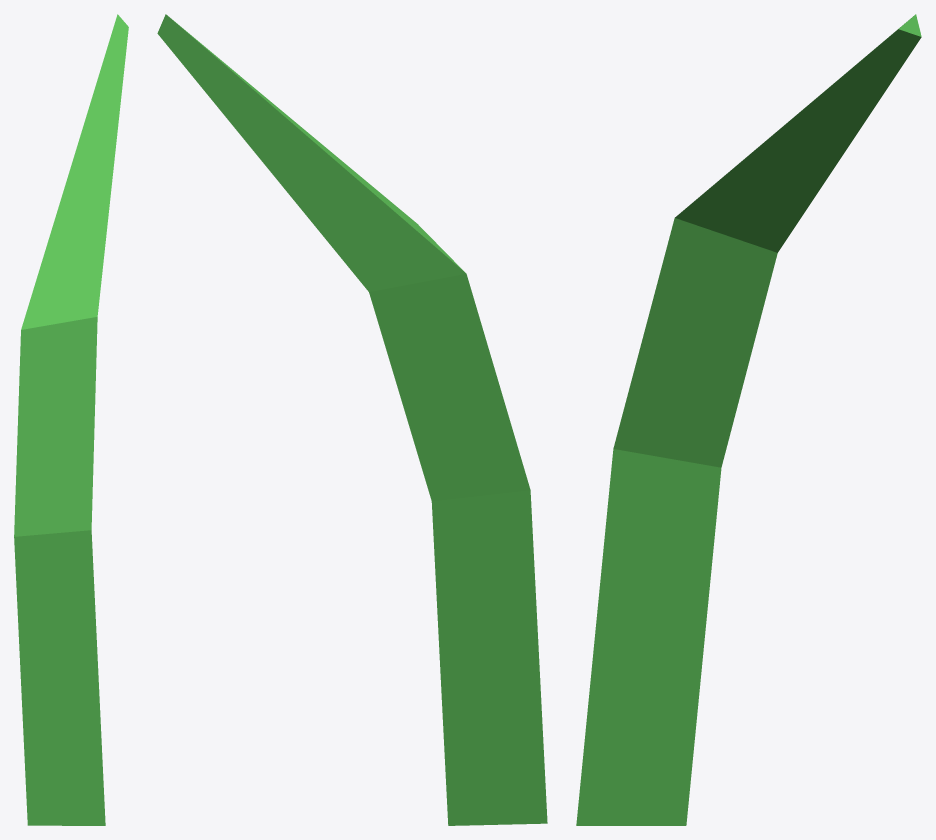
Rendered from blade4.glb.
3 views of the same model, side by side, from view 1: azimuth 30°, elevation 25°; view 2: azimuth 150°, elevation 25°; view 3: azimuth 270°, elevation 25° (orthographic). The views are drawn at different scales.
Parts seen in each view (by area): view 1: 4; view 2: 4; view 3: 4.
Boxes of the visible parts, left/top/right/bottom form: 4: left=14, top=14, right=128, bottom=825; 4: left=157, top=14, right=547, bottom=825; 4: left=576, top=14, right=921, bottom=825.
Size of the model in its own units: 0.1468 by 0.4715 by 0.1636.
